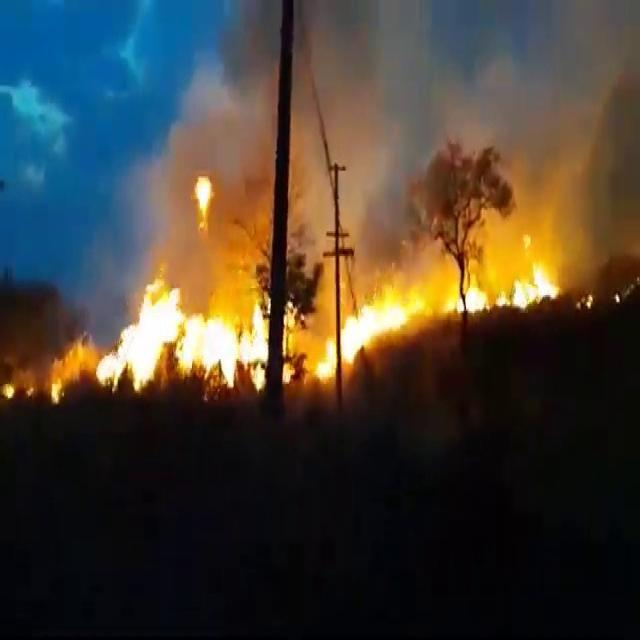Fire: (92, 277, 273, 393), (315, 282, 417, 384), (444, 254, 563, 316), (238, 296, 270, 391), (49, 336, 93, 404)
Smoke: (301, 0, 632, 229), (150, 5, 271, 274), (150, 52, 274, 175)
